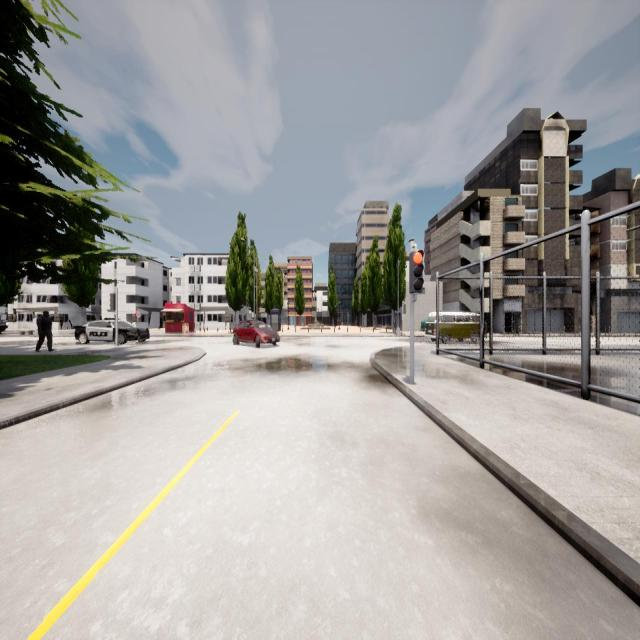Pedestrian: (37, 311, 52, 351)
Traffic_Signs: (135, 311, 141, 318)
Vehicle: (75, 318, 149, 345), (426, 312, 485, 342), (233, 321, 280, 348), (0, 318, 8, 333)
traffic_light: (410, 252, 422, 291)
